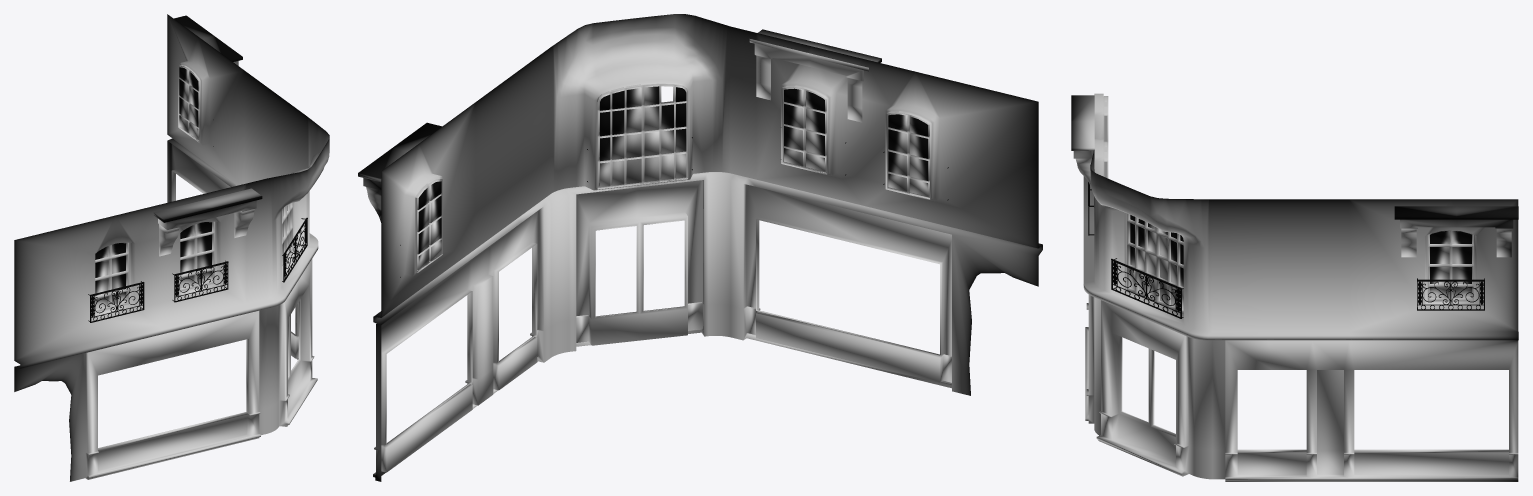
File: ENV_Batiment_Corner_02.fbx
The picture shows the model from 3 angles, left to right: view 1: azimuth 30°, elevation 25°; view 2: azimuth 150°, elevation 25°; view 3: azimuth 270°, elevation 25°; orthographic projection. The views are drawn at different scales.
Visible parts, largest first — view 1: ENV_Batiment_Corner_02; view 2: ENV_Batiment_Corner_02; view 3: ENV_Batiment_Corner_02.
Part boxes in pixels (x1=…): ENV_Batiment_Corner_02: x1=14, y1=14, x2=329, y2=481; ENV_Batiment_Corner_02: x1=358, y1=14, x2=1042, y2=481; ENV_Batiment_Corner_02: x1=1071, y1=93, x2=1518, y2=481.
Size of the model in its own units: 1288 by 859 by 1245.
